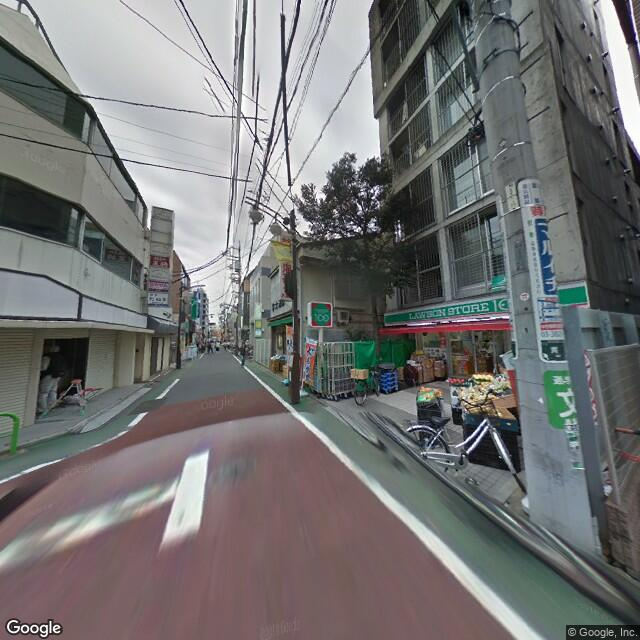lawson: (383, 292, 514, 328), (304, 302, 333, 327)
